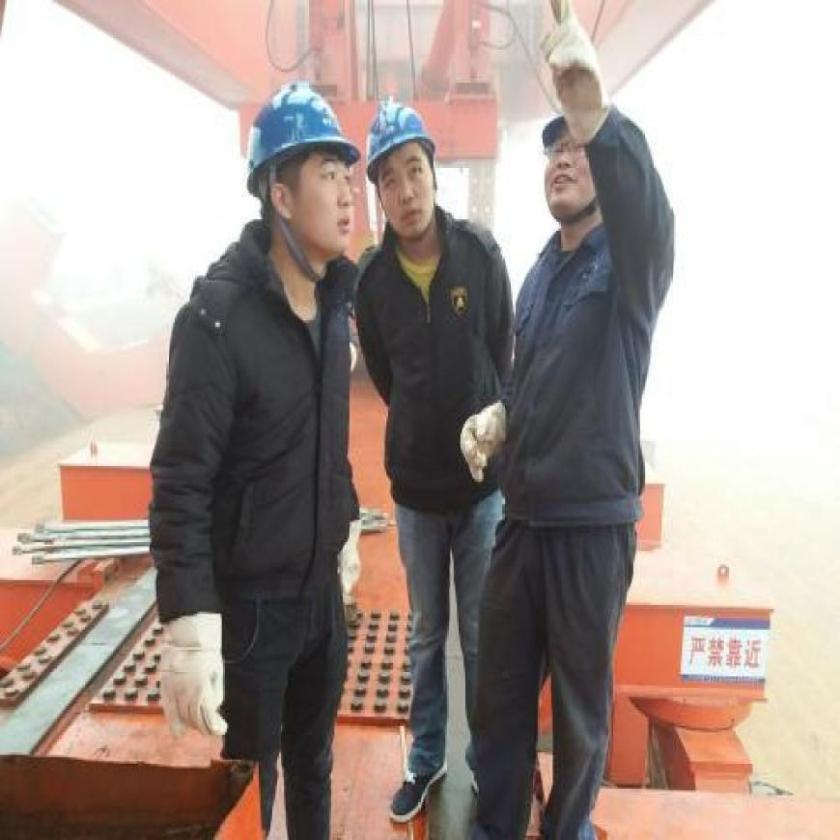Con_casco: (239, 74, 360, 280), (364, 98, 440, 242)
